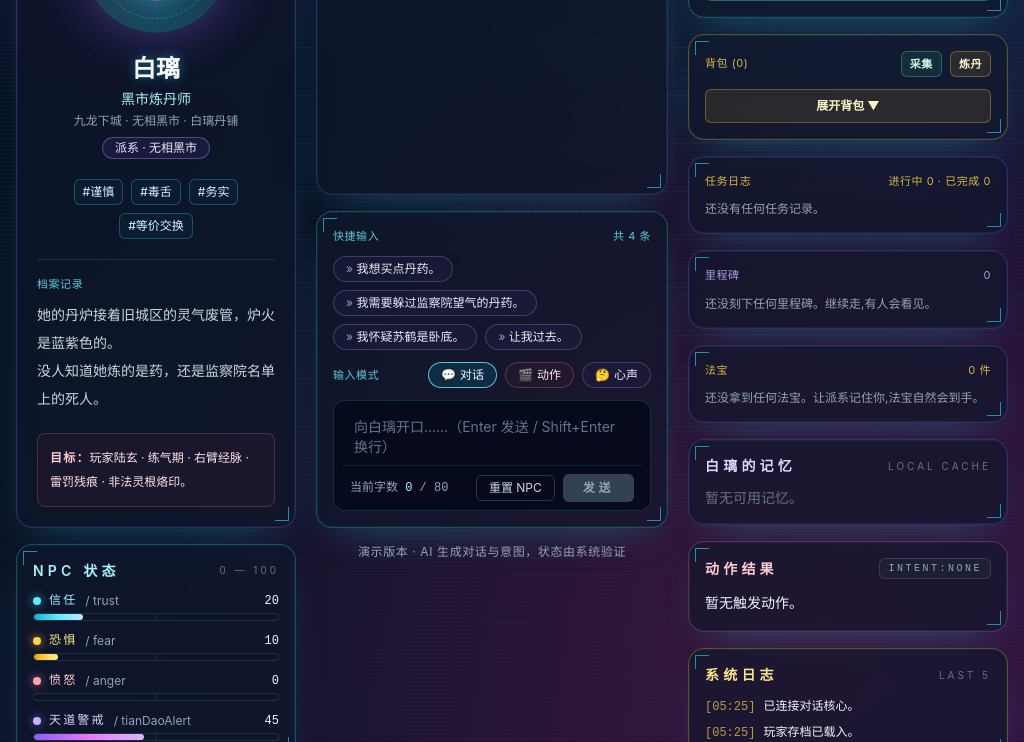
Test case: PlayPage scene + NPC navigation › renders a violet monologue bubble for monologue mode
(page scrolled)
Click the radio button with aria-label "心声模式". click: coordinates (616, 375)
box: top-left (582, 362), bottom-right (651, 388)
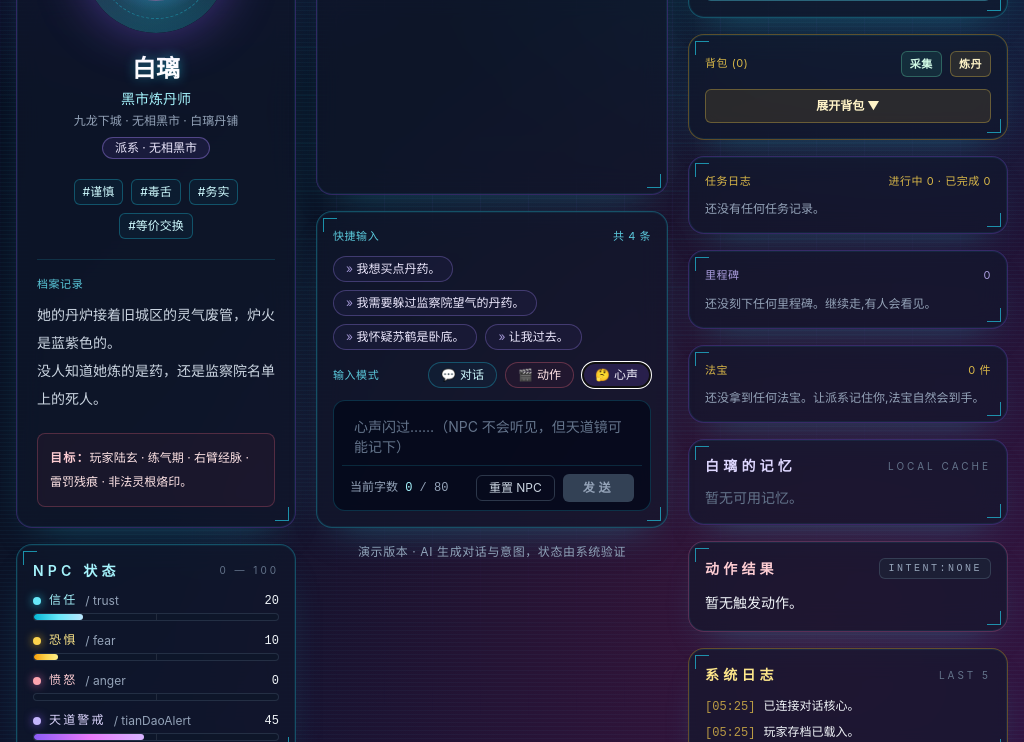
Type "完蛋" into the text box with placeholder "心声闪过……（NPC 不会听见，但天道镜可能记下）". click: coordinates (492, 437)
box: top-left (342, 409), bottom-right (642, 465)
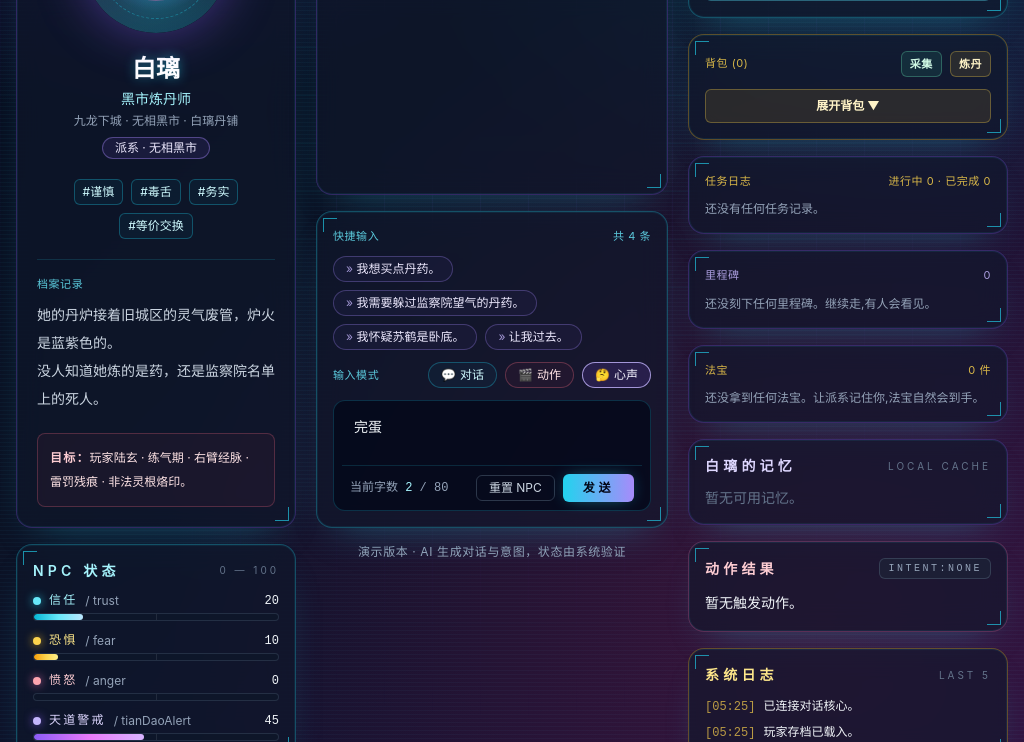
Click the button "发送". click: coordinates (598, 488)
box: top-left (563, 474), bottom-right (634, 502)
(page scrolled)
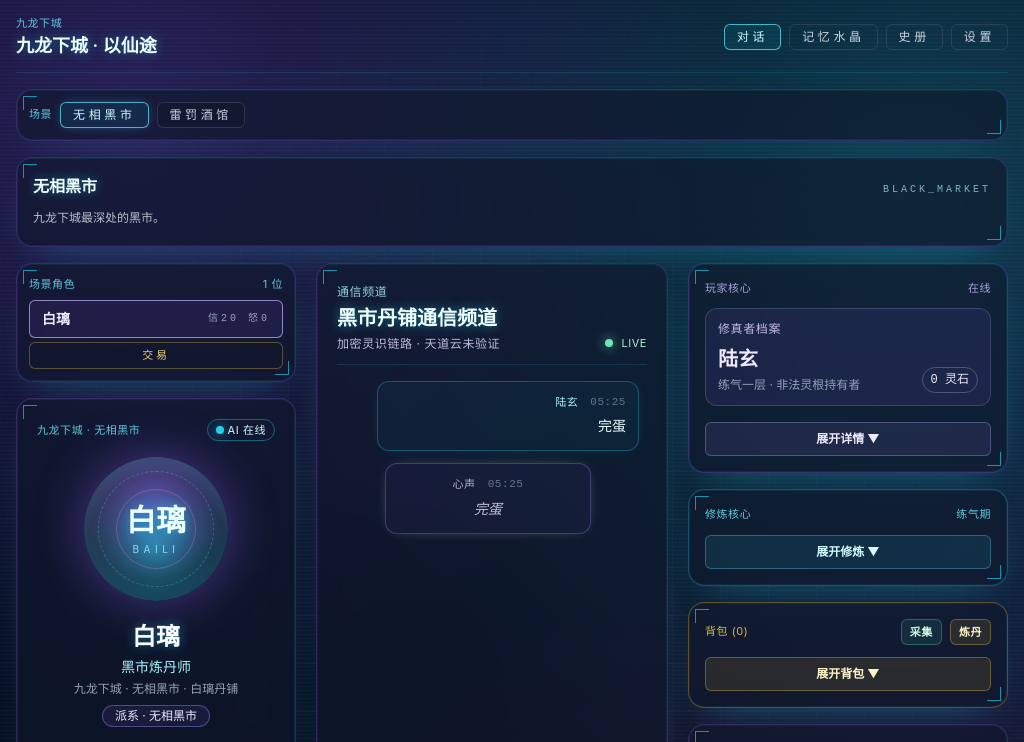
Expected: the element with test id "narrator-bubble" is shown, top-left (385, 463), bottom-right (591, 534)
Expected: the element with test id "narrator-bubble" shows "心声", top-left (453, 477), bottom-right (476, 491)
